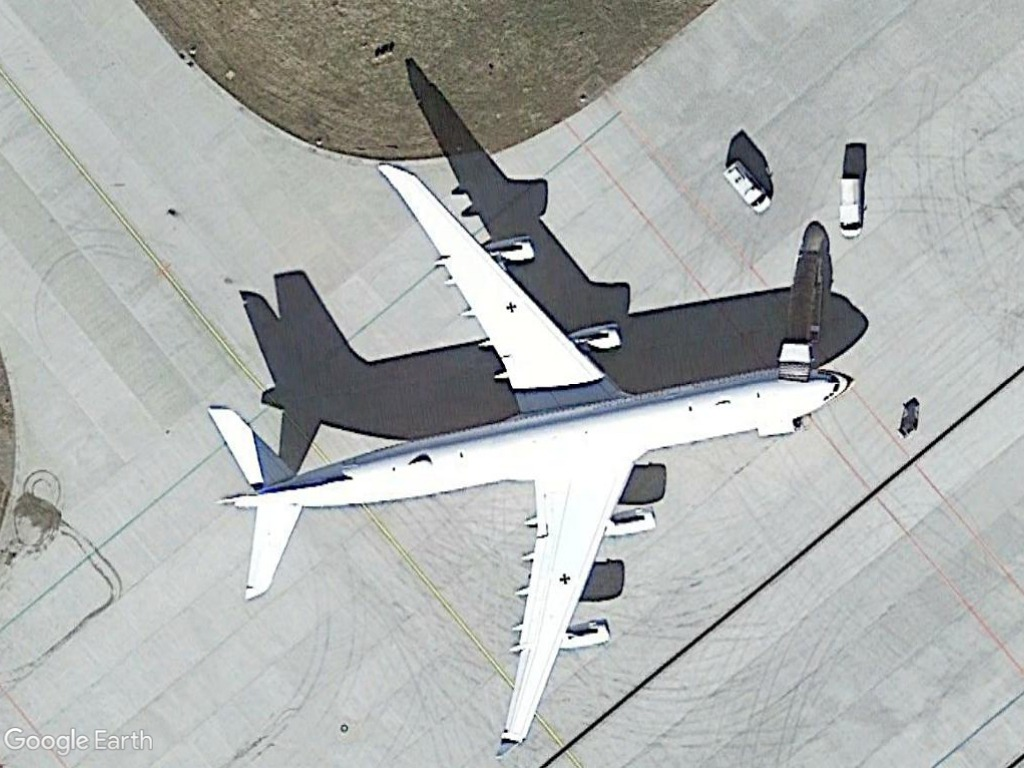airliner: (200, 155, 850, 760)
van: (720, 159, 775, 219), (834, 172, 869, 241)
